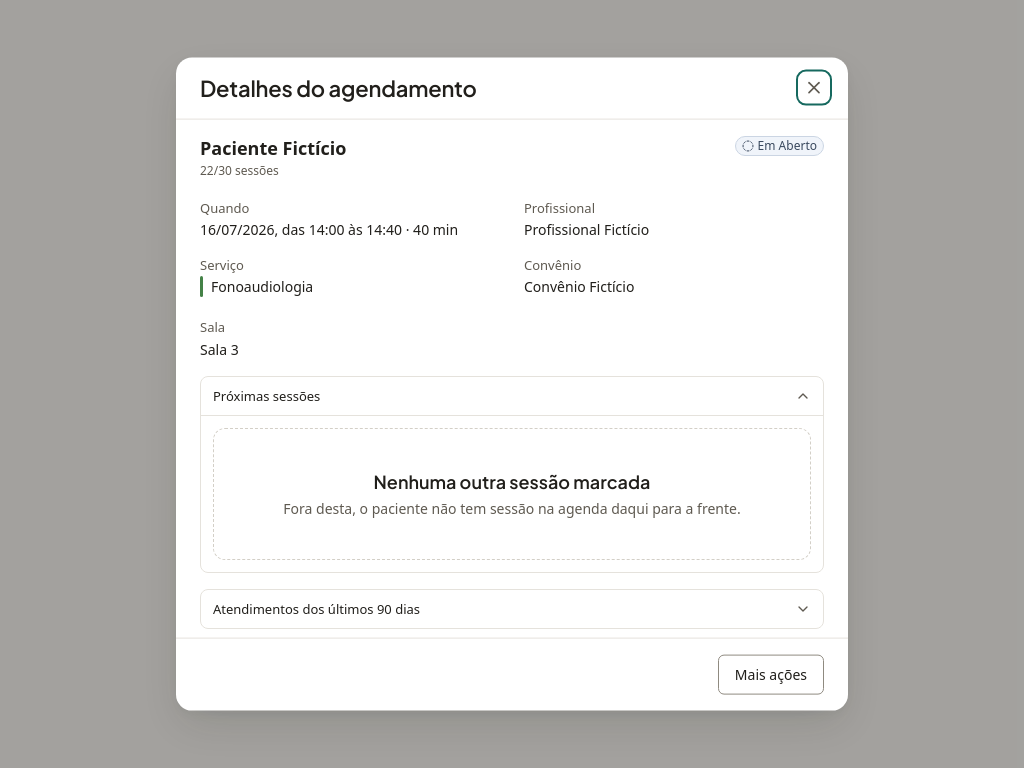
Test: PainelAgendamento — ações derivadas do status/estado/permissão (3.2) › não deve oferecer o WhatsApp a quem não fala com as famílias, nem o financeiro a quem não fatura
Click the button "Mais ações" at [771, 674], box x1=718 y1=654 x2=824 y2=694
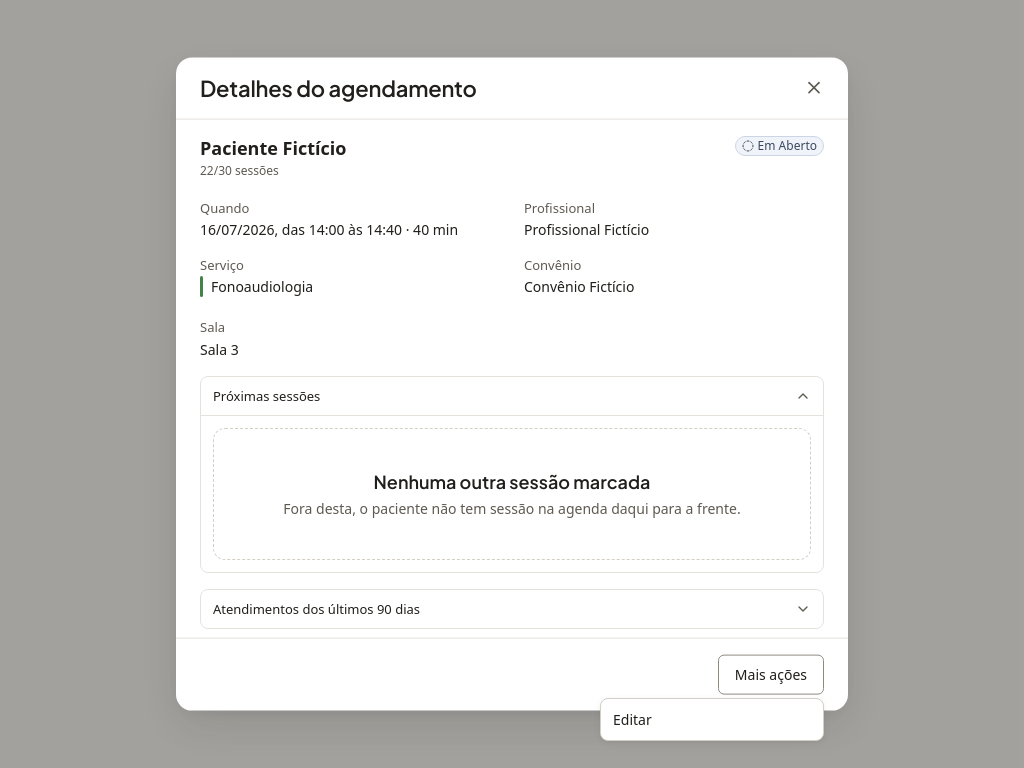
Expected: the menu item "Editar" is shown, x1=613 y1=710 x2=652 y2=729
